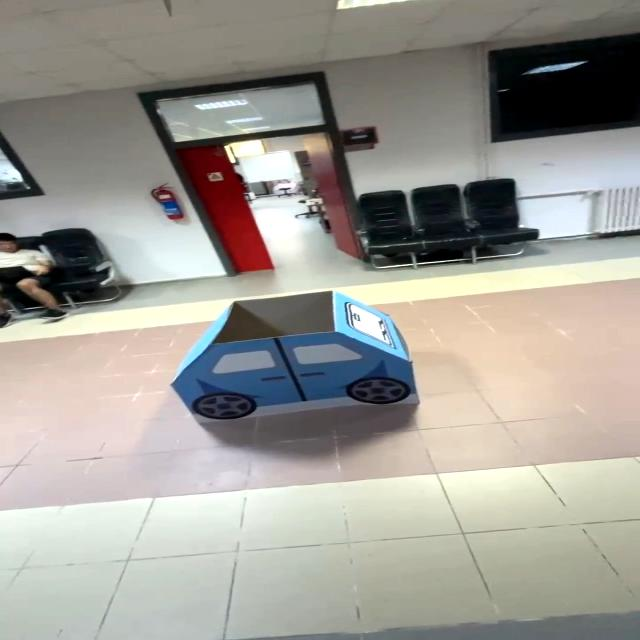blue_car: (146, 279, 441, 447)
